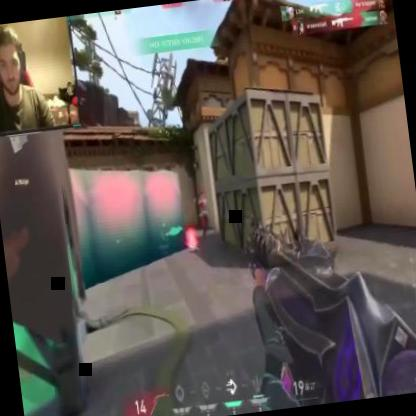enemy: (194, 190, 210, 238)
enemy_head: (198, 190, 204, 198)
